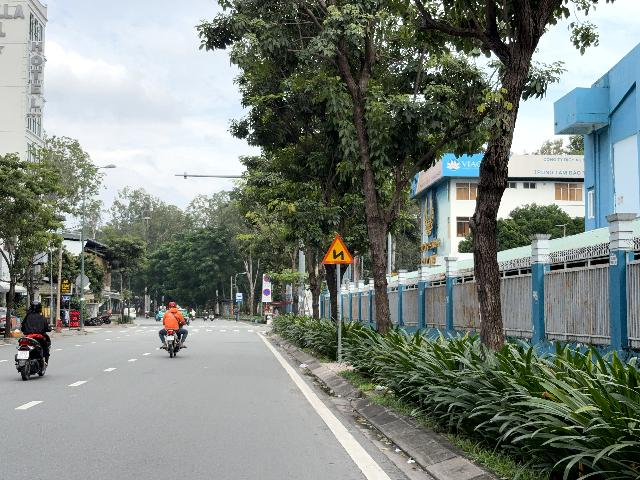nhieu-cho-ngoat-nguy-hiem-lien-tiep: (322, 234, 355, 264)
